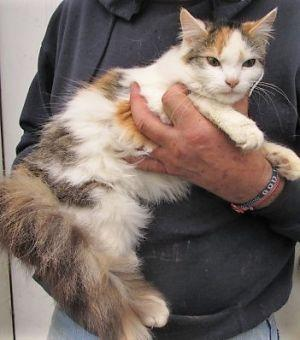ragdoll: (174, 1, 285, 119)
